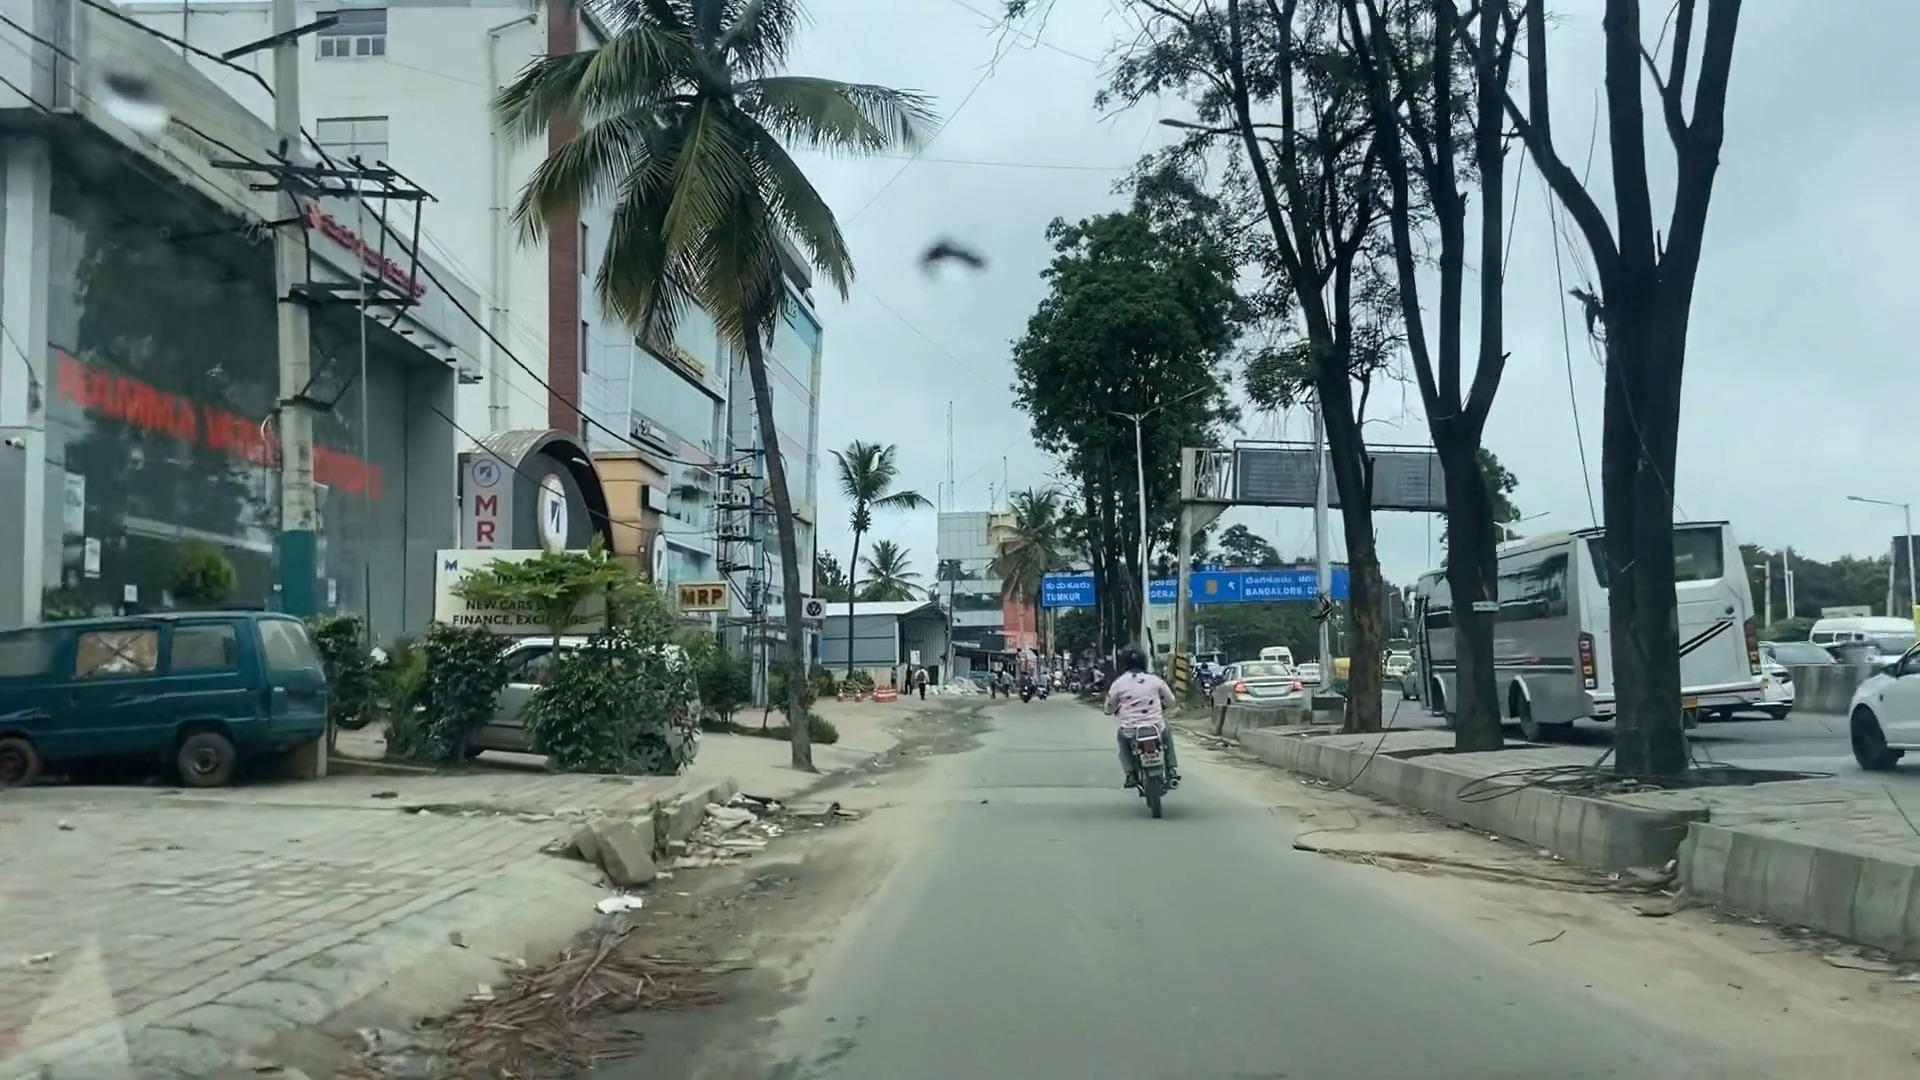LMV: (1110, 644, 1185, 814)
RoadDamages: (549, 899, 824, 1080), (1290, 790, 1635, 916)
